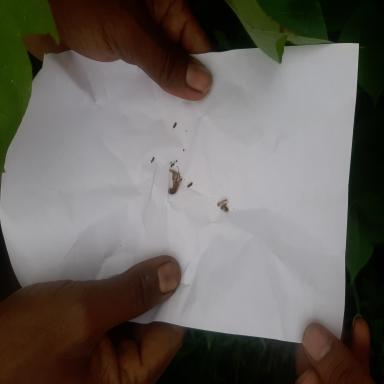pbw: (216, 198, 228, 206)
